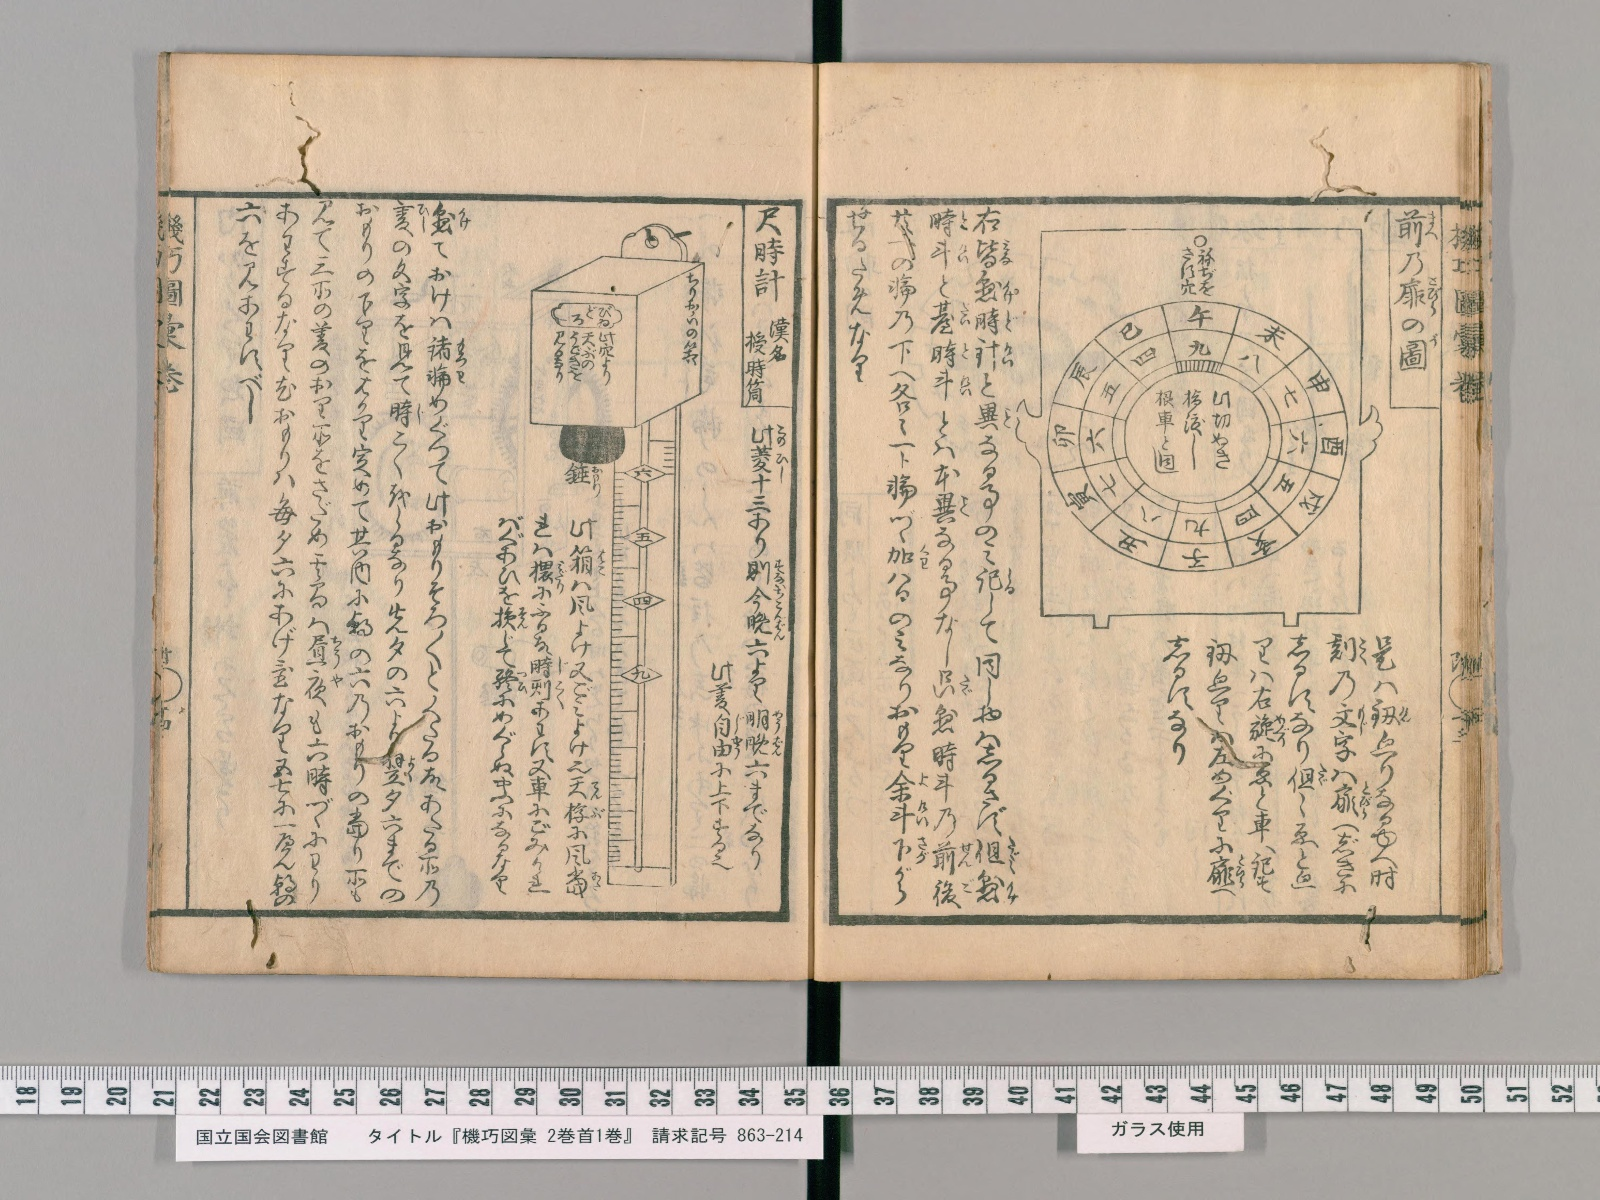1_overall: (147, 57, 1508, 992)
2_handwritten: (882, 205, 920, 904), (417, 200, 454, 909), (344, 202, 379, 901), (267, 200, 301, 908), (380, 200, 414, 903), (971, 205, 1005, 904), (304, 198, 336, 904), (929, 205, 960, 909), (488, 513, 528, 897), (741, 424, 774, 871), (564, 516, 598, 900), (527, 512, 556, 895), (1327, 632, 1362, 896), (1203, 638, 1237, 897), (1245, 637, 1277, 896), (1369, 634, 1402, 892), (1286, 635, 1318, 892), (236, 200, 265, 425), (707, 661, 734, 871), (1162, 635, 1196, 766), (563, 463, 593, 487)
3_typography: (1392, 207, 1431, 373), (753, 205, 789, 304), (745, 330, 769, 405), (767, 316, 789, 362)
4_illustration: (1014, 224, 1385, 632), (527, 213, 707, 890)
